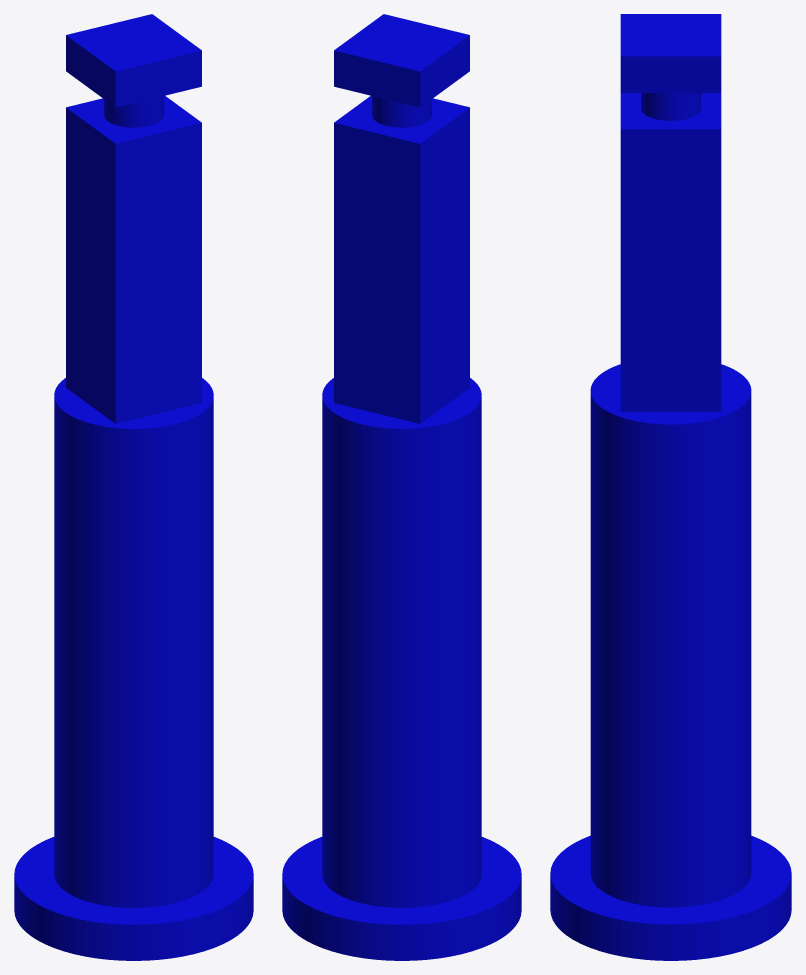
File: axe-main_PCBWay Community.007.dae
3 renders of one model, left to right at view 1: azimuth 30°, elevation 25°; view 2: azimuth 150°, elevation 25°; view 3: azimuth 270°, elevation 25°, orthographic.
Parts seen in each view (by area): view 1: tmp_export_axe-main_PCBWay Community.007; view 2: tmp_export_axe-main_PCBWay Community.007; view 3: tmp_export_axe-main_PCBWay Community.007.
Boxes of the visible parts, x1=… form: tmp_export_axe-main_PCBWay Community.007: x1=14, y1=14, x2=253, y2=960; tmp_export_axe-main_PCBWay Community.007: x1=282, y1=14, x2=521, y2=960; tmp_export_axe-main_PCBWay Community.007: x1=550, y1=14, x2=791, y2=960.
Bounding box in the file's own units: 0.012 × 0.012 × 0.048.
